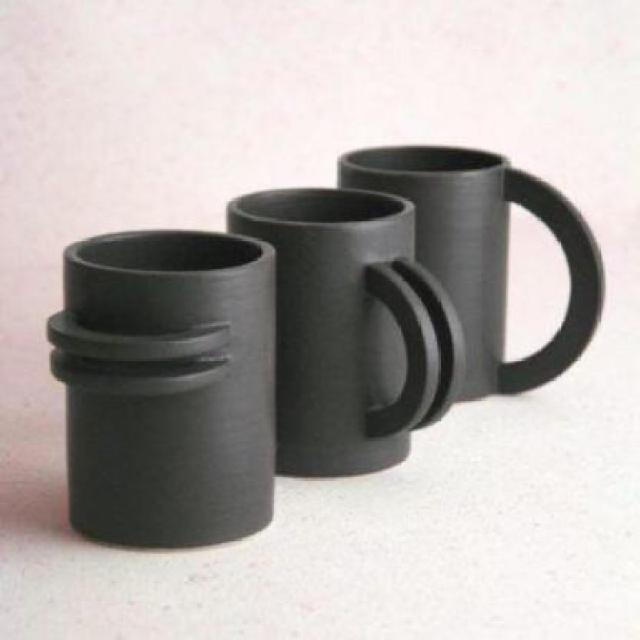glass: (44, 224, 282, 550), (335, 144, 605, 422), (231, 186, 460, 479)
